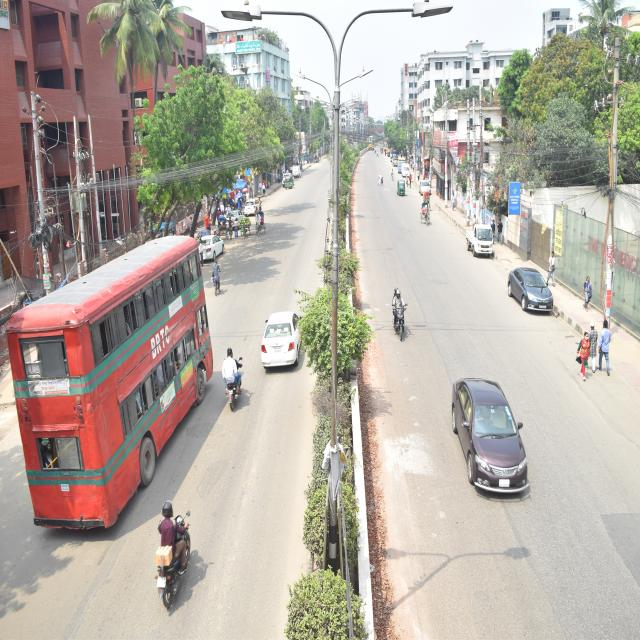bus: (6, 235, 222, 533)
car: (434, 346, 540, 570), (258, 285, 319, 387), (503, 257, 567, 345), (192, 223, 231, 278), (236, 188, 273, 232), (413, 167, 435, 204), (276, 166, 295, 200), (403, 157, 413, 191)
motorbike: (144, 479, 216, 610), (374, 273, 416, 358), (223, 328, 252, 438)
pickup-van: (459, 215, 498, 269), (290, 146, 306, 191)
